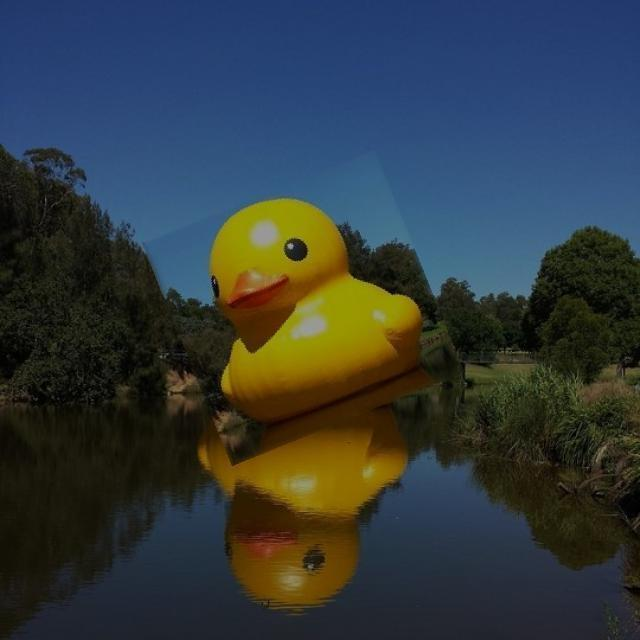rubber-duck: (209, 197, 419, 420)
